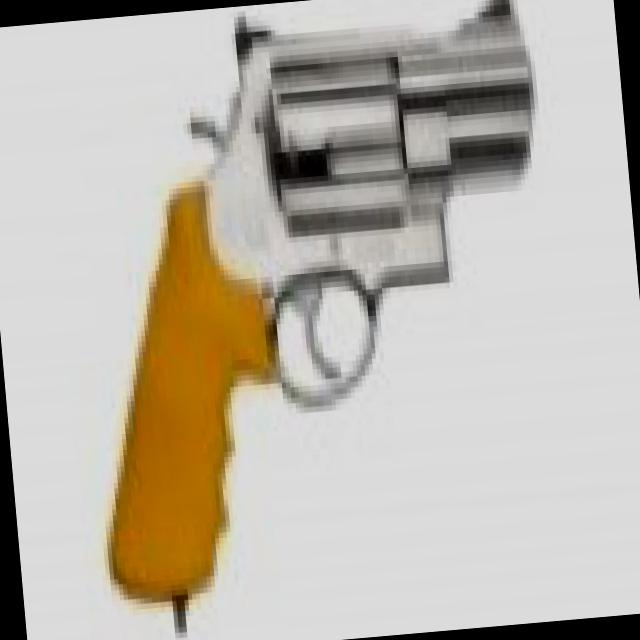handgun: (54, 0, 574, 591)
